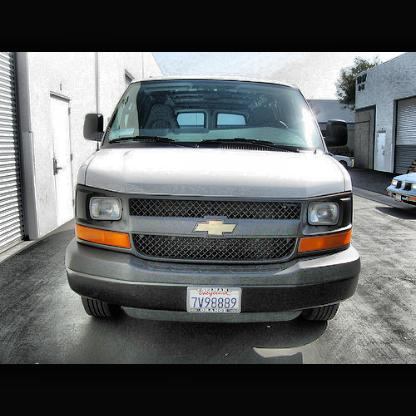Chevrolet Express Van 2007: (66, 79, 363, 326)
